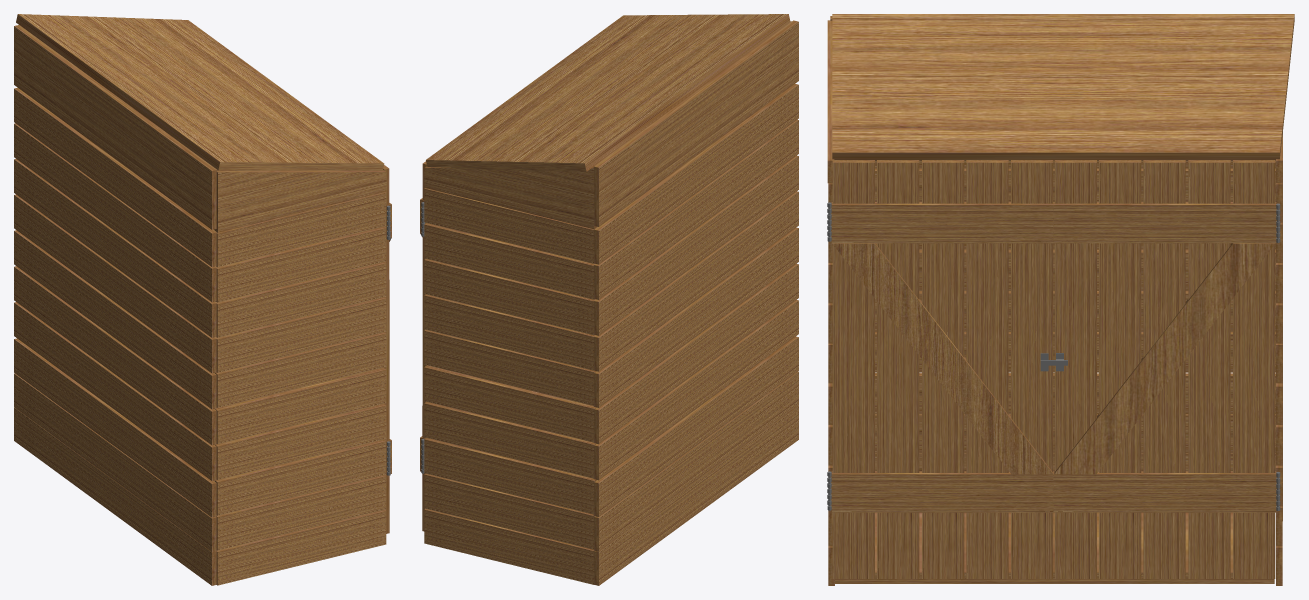
File: toolshed.fbx
The picture shows the model from 3 angles, left to right: view 1: azimuth 30°, elevation 25°; view 2: azimuth 150°, elevation 25°; view 3: azimuth 270°, elevation 25°; orthographic projection. The views are drawn at different scales.
Parts seen in each view (by area): view 1: pCube22, pCube35, pCube25, pCube32, pCube29, pCube30, pCube31, pCube27, pCube28, pCube24, pCube26, pCube33 (+12 smaller); view 2: pCube22, pCube35, pCube25, pCube32, pCube29, pCube30, pCube31, pCube27, pCube28, pCube26, pCube33, pCube34 (+12 smaller); view 3: pCube22, pCube2 (×2), pCube6 (×2), pCube3 (×2), pCube4 (×2), pCube5 (×2), pCube9 (×2), pCube7 (×2), pCube8 (×2), pCube36, pCube24, pCube27 (+5 smaller).
Boxes of the visible parts, bbox=[...] form: pCube22: bbox=[16, 14, 384, 170]; pCube35: bbox=[14, 25, 217, 229]; pCube25: bbox=[14, 87, 217, 266]; pCube32: bbox=[14, 338, 216, 517]; pCube29: bbox=[14, 230, 216, 409]; pCube30: bbox=[14, 266, 216, 445]; pCube31: bbox=[14, 302, 216, 480]; pCube27: bbox=[14, 159, 217, 337]; pCube28: bbox=[14, 194, 216, 373]; pCube24: bbox=[214, 170, 386, 232]; pCube26: bbox=[14, 123, 217, 302]; pCube33: bbox=[14, 373, 217, 551]; pCube22: bbox=[426, 14, 790, 171]; pCube35: bbox=[593, 20, 798, 226]; pCube25: bbox=[594, 84, 798, 264]; pCube32: bbox=[593, 336, 798, 516]; pCube29: bbox=[593, 227, 798, 407]; pCube30: bbox=[594, 263, 798, 444]; pCube31: bbox=[594, 300, 798, 480]; pCube27: bbox=[594, 155, 798, 335]; pCube28: bbox=[594, 191, 798, 371]; pCube26: bbox=[593, 119, 798, 299]; pCube33: bbox=[593, 371, 798, 551]; pCube34: bbox=[594, 406, 798, 585]; pCube22: bbox=[832, 14, 1294, 160]; pCube2 (×2): bbox=[832, 160, 1275, 578]; pCube6 (×2): bbox=[1011, 160, 1096, 578]; pCube3 (×2): bbox=[877, 160, 1230, 578]; pCube4 (×2): bbox=[922, 160, 1185, 578]; pCube5 (×2): bbox=[966, 160, 1141, 578]; pCube9 (×2): bbox=[832, 243, 1275, 474]; pCube7 (×2): bbox=[831, 202, 1276, 243]; pCube8 (×2): bbox=[831, 471, 1276, 512]; pCube36: bbox=[835, 512, 1274, 583]; pCube24: bbox=[827, 20, 834, 183]; pCube27: bbox=[875, 168, 1275, 201].
Size of the model in its own units: 2.73 by 5.99 by 5.28.
